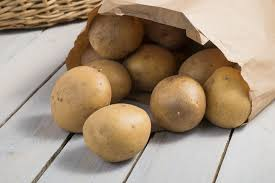potato: (48, 63, 110, 139), (147, 73, 209, 137), (205, 65, 258, 132), (86, 102, 146, 160), (87, 18, 146, 64), (181, 51, 232, 85), (128, 48, 173, 85)
